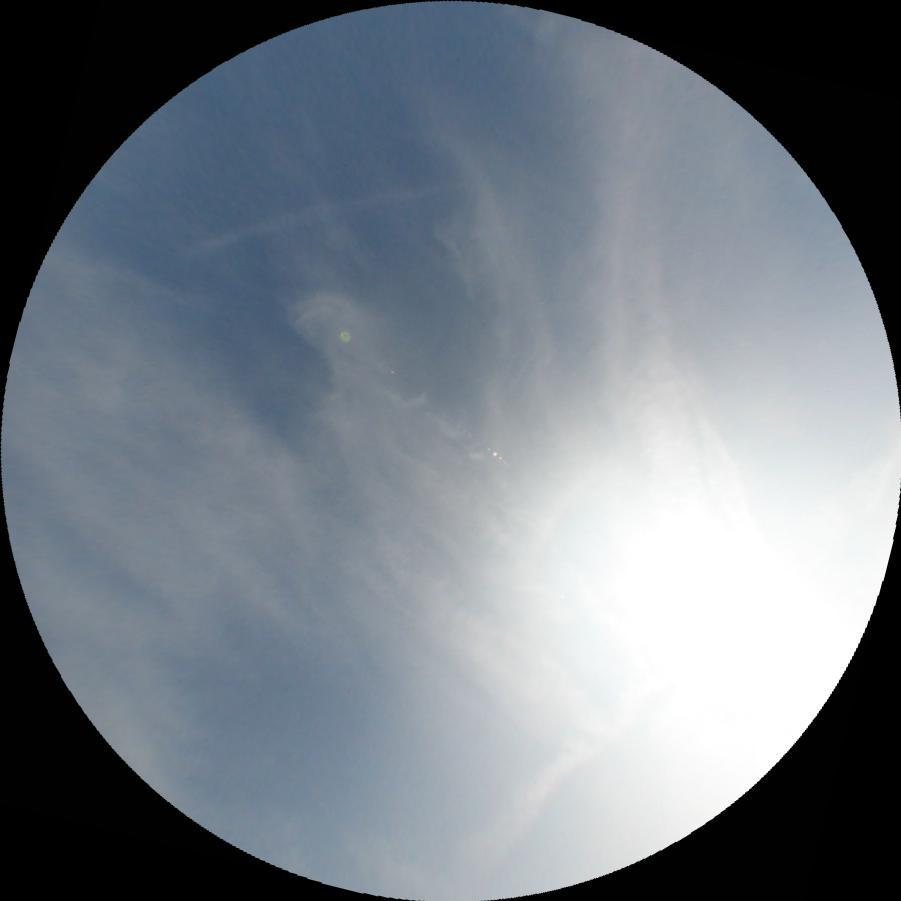contrail veryold: (174, 166, 458, 264)
sun: (554, 491, 778, 717)
